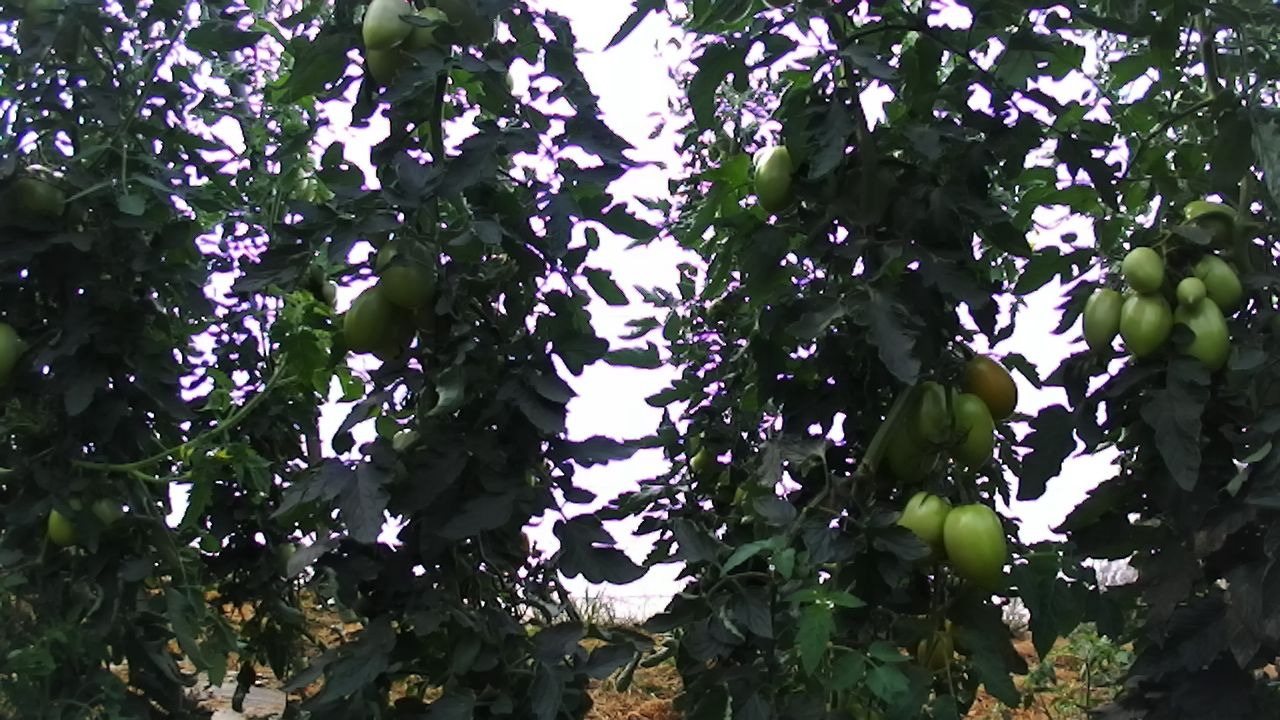tomato: (937, 494, 1011, 592), (1161, 292, 1239, 379), (365, 233, 443, 314), (1179, 243, 1248, 323), (900, 378, 961, 455), (947, 387, 999, 475), (1116, 286, 1175, 359), (895, 485, 962, 548), (341, 282, 394, 357), (961, 354, 1019, 422), (751, 142, 800, 214), (1079, 284, 1125, 353), (358, 0, 414, 55), (1119, 242, 1168, 297), (1173, 273, 1208, 309)
